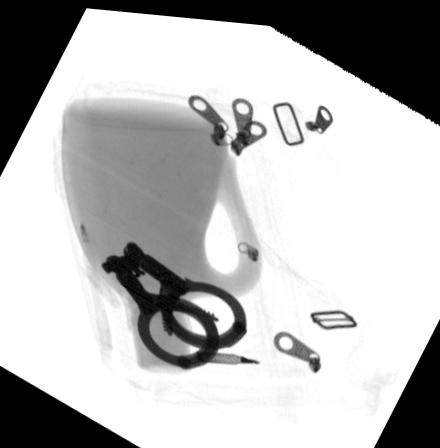Bullet: (196, 343, 264, 360)
HandCuffs: (98, 232, 249, 369)
